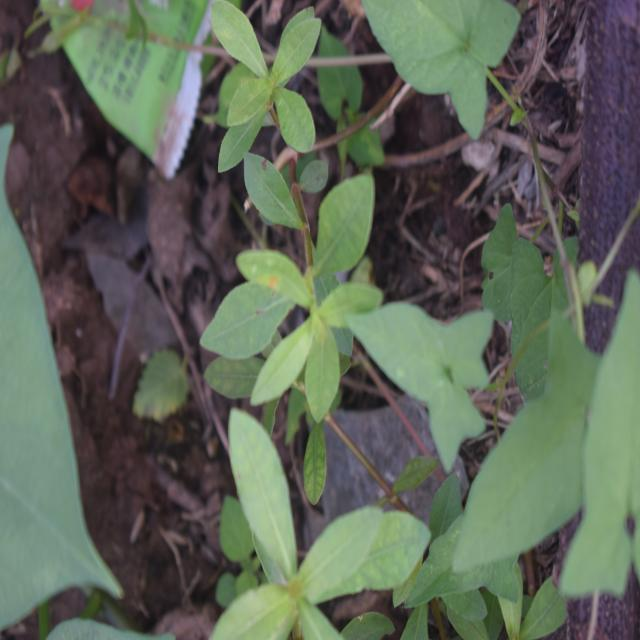Alligatorweed: (218, 27, 373, 399)
